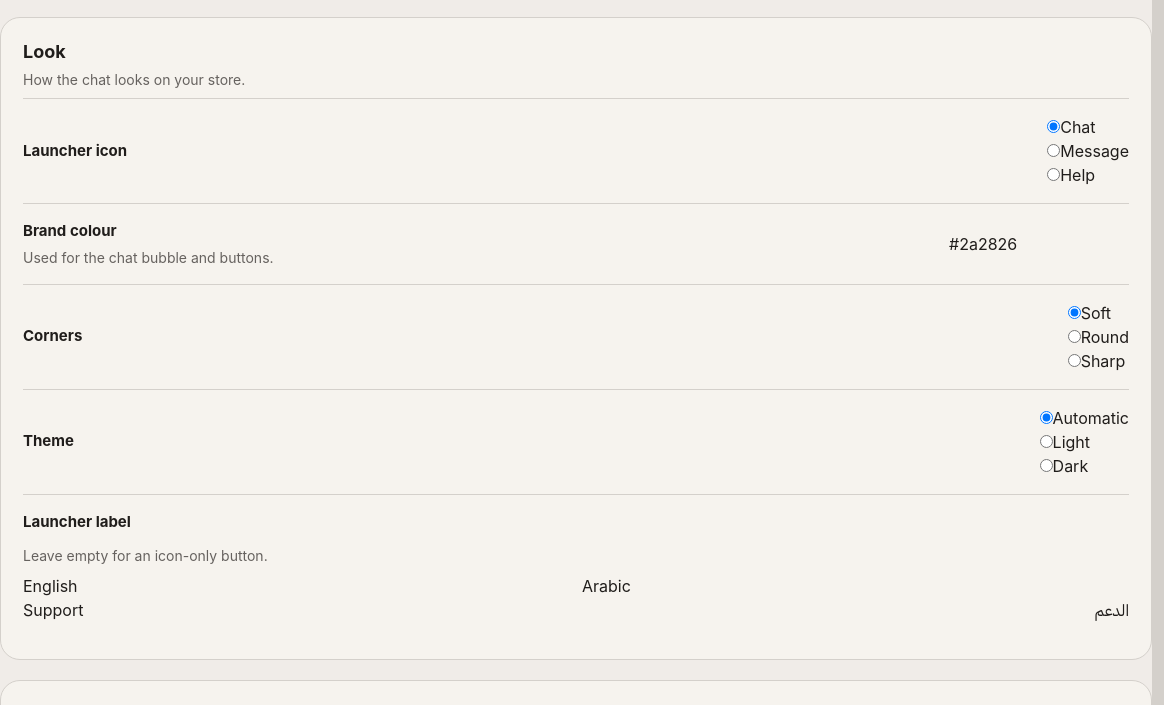
Test: V16ChatStudio › discards the draft back to the published version
(page scrolled)
Click the radio button labelled "Sharp" at x=1074, y=360, box x1=1068 y1=354 x2=1081 y2=366
(page scrolled)
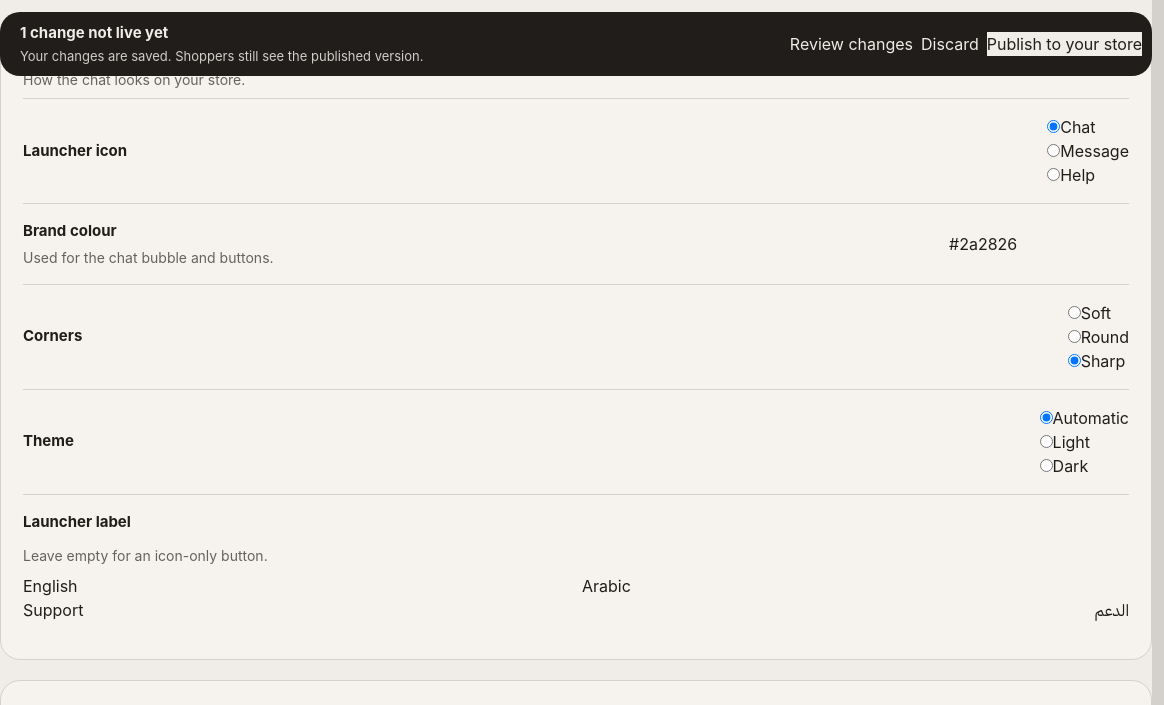
Click the button "Discard" at x=950, y=44, box x1=921 y1=32 x2=979 y2=56
(page scrolled)
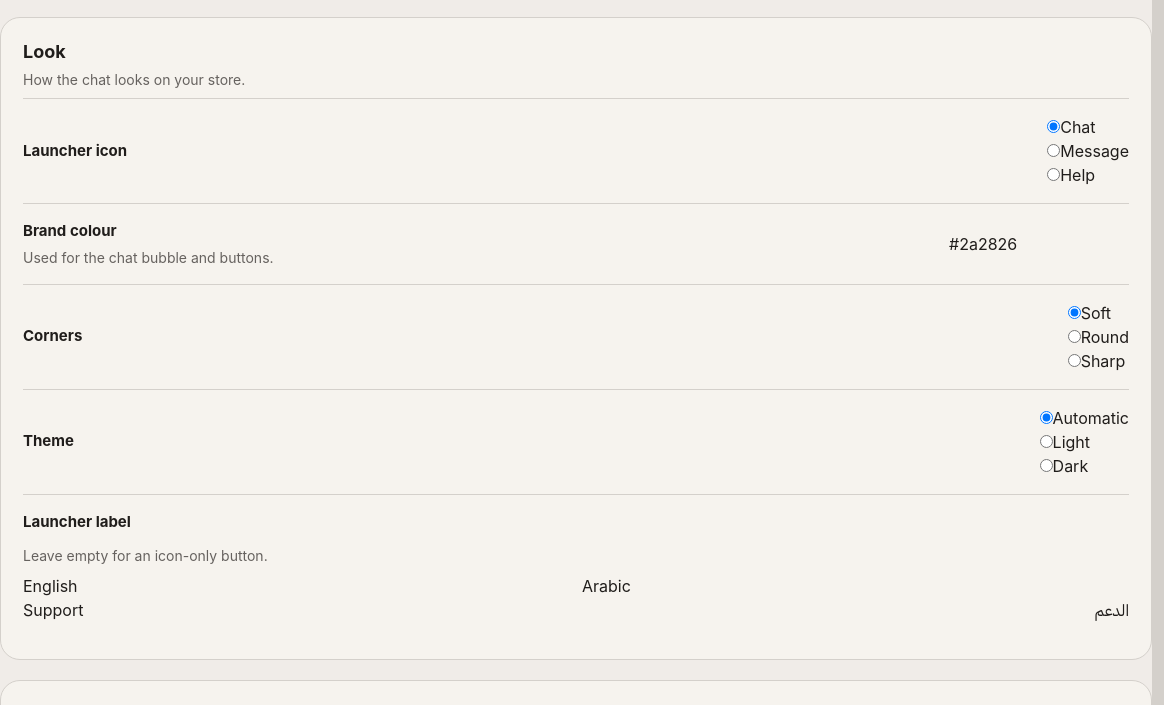
Check: the radio button labelled "Soft" is checked, box x1=1068 y1=306 x2=1081 y2=318
